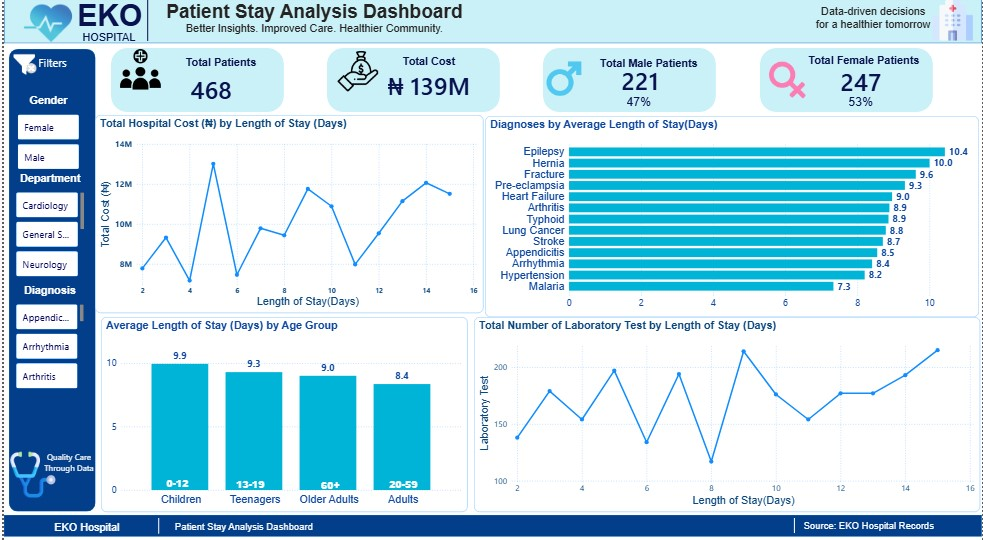

The page's visual inventory and layout, read from the dashboard file:
{"tool":"powerbi","page":{"name":"Page 1","canvas":[1920,1080],"ordinal":0},"visuals":[{"type":"shape","box":[1483.7,102.3,339.5,125.6],"z":0},{"type":"shape","box":[1058.9,102.3,339.5,125.6],"z":1000},{"type":"shape","box":[634.1,102.3,339.5,125.6],"z":2000},{"type":"shape","box":[0,4,1920,88.9],"z":3000},{"type":"shape","box":[0,1020,1920,42.2],"z":4000},{"type":"textbox","box":[119.3,63.9,172.3,48.9],"z":5000},{"type":"textbox","box":[138.6,0,174.7,77.1],"z":6000},{"type":"textbox","box":[269.9,3.6,680.7,89.2],"z":7000},{"type":"shape","box":[245.6,8.5,73.4,80.6],"z":8000},{"type":"textbox","box":[1578.3,14.5,255.6,78.8],"z":9000},{"type":"shape","box":[9.4,103.1,169.8,908.3],"z":10000},{"type":"shape","box":[209.3,102.3,339.5,125.6],"z":11000},{"type":"cardVisual","title":"Total Cost","fields":{"Data":["Measure.Total Cost"]},"box":[747.4,129.6,177.3,86.6],"z":12000},{"type":"cardVisual","title":"Total Patients","fields":{"Data":["Measure.Total Patient"]},"box":[360.7,138.2,129.9,86.6],"z":13000},{"type":"cardVisual","title":"Total Male Patients","fields":{"Data":["Measure.Male"]},"box":[1207.4,131.8,97.2,64.8],"z":14000},{"type":"cardVisual","title":"Total Female Patients","fields":{"Data":["Measure.Female"]},"box":[1637.5,135.6,96.4,62.6],"z":15000},{"type":"textbox","box":[719.3,112.3,231.5,47.8],"z":16000},{"type":"textbox","box":[347.8,114.5,157.1,47.6],"z":17000},{"type":"image","box":[0,0,172.6,106.8],"z":18000},{"type":"image","box":[1810.1,8.5,104.8,79.8],"z":19000},{"type":"image","box":[1488.4,107,120.5,120.5],"z":20000},{"type":"textbox","box":[1572.1,110.6,231.5,47.8],"z":21000},{"type":"textbox","box":[1151.3,116.6,231.1,47.5],"z":22000},{"type":"image","box":[1058.7,115.4,81.7,93.3],"z":23000},{"type":"cardVisual","title":"Total Female Patients","fields":{"Data":["Measure.%Female"]},"box":[1652.9,188.5,63.6,38.1],"z":24000},{"type":"cardVisual","title":"Total Female Patients","fields":{"Data":["Measure.%male"]},"box":[1217.3,189.4,77.2,37.9],"z":25000},{"type":"textbox","box":[2104.4,186.9,203.9,31.1],"z":26000},{"type":"image","box":[609.1,108,172.8,79.9],"z":27000},{"type":"image","box":[218.2,103.7,99.4,79.9],"z":28000},{"type":"clusteredBarChart","title":"Diagnoses by Average Length of Stay(Days)","fields":{"Category":["Clean sheet (2).Diagnosis"],"Y":["Avg(Clean sheet (2).Length_of_Stay)"]},"box":[945,235,970,395],"z":29000},{"type":"lineChart","title":"Total Hospital Cost (₦) by Length of Stay (Days)","fields":{"Category":["Clean sheet (2).Length_of_Stay"],"Y":["Sum(Clean sheet (2).Total_Cost)"]},"box":[179,233.3,763,388.9],"z":30000},{"type":"lineChart","title":"Total Number of Laboratory Test by Length of Stay  (Days)","fields":{"Category":["Clean sheet (2).Length_of_Stay"],"Y":["Sum(Clean sheet (2).Lab_Tests_Conducted)"]},"box":[921.9,630.1,993.8,382.7],"z":31000},{"type":"image","box":[17.6,112.5,47.3,44.6],"z":32000},{"type":"image","box":[12.2,875.6,90,128.9],"z":33000},{"type":"textbox","box":[34.5,112.6,119.5,71],"z":34000},{"type":"advancedSlicerVisual","fields":{"Values":["Clean sheet (2).Gender"]},"box":[21.6,192.4,131.6,153.2],"z":35000},{"type":"textbox","box":[56.8,888.9,141.4,70],"z":36000},{"type":"advancedSlicerVisual","fields":{"Values":["Clean sheet (2).Department"]},"box":[17.6,345.9,145.9,211.8],"z":37000},{"type":"textbox","box":[188.6,1026.4,565.7,53.6],"z":38000},{"type":"textbox","box":[0,1026,319.3,53.4],"z":39000},{"type":"shape","box":[267.5,1025.3,73.5,31.3],"z":40000},{"type":"shape","box":[1531.3,1025.8,40.9,30.1],"z":42000},{"type":"advancedSlicerVisual","fields":{"Values":["Clean sheet (2).Diagnosis"]},"box":[17.6,565.9,144.7,211.8],"z":43000},{"type":"clusteredColumnChart","title":" Average Length of Stay (Days) by Age Group","fields":{"Category":["Clean sheet (2).Age_Group"],"Y":["Avg(Clean sheet (2).Length_of_Stay)"]},"box":[190.1,630.9,719.8,382.7],"z":44000},{"type":"textbox","box":[644.1,941.4,280.8,92.9],"z":45000},{"type":"textbox","box":[501.7,943.5,280.8,92.9],"z":46000},{"type":"textbox","box":[200.3,939.4,280.8,92.9],"z":47000},{"type":"textbox","box":[342.7,941.4,280.8,92.9],"z":48000},{"type":"textbox","box":[1531.3,1025.3,333.5,53.3],"z":49000}]}

Visuals, with their boxes in screenshot pixels (x1, y1, x2, y2), scaled from the page's 1920x1080 canvas onto the 983x540 screenshot:
shape: BBox(760, 51, 933, 114)
shape: BBox(542, 51, 716, 114)
shape: BBox(325, 51, 498, 114)
shape: BBox(0, 2, 982, 46)
shape: BBox(0, 510, 982, 531)
textbox: BBox(61, 32, 149, 56)
textbox: BBox(71, 0, 160, 39)
textbox: BBox(138, 2, 487, 46)
shape: BBox(126, 4, 163, 45)
textbox: BBox(808, 7, 939, 47)
shape: BBox(5, 52, 92, 506)
shape: BBox(107, 51, 281, 114)
"Total Cost" cardVisual: BBox(383, 65, 473, 108)
"Total Patients" cardVisual: BBox(185, 69, 251, 112)
"Total Male Patients" cardVisual: BBox(618, 66, 668, 98)
"Total Female Patients" cardVisual: BBox(838, 68, 888, 99)
textbox: BBox(368, 56, 487, 80)
textbox: BBox(178, 57, 258, 81)
image: BBox(0, 0, 88, 53)
image: BBox(927, 4, 980, 44)
image: BBox(762, 54, 824, 114)
textbox: BBox(805, 55, 923, 79)
textbox: BBox(589, 58, 708, 82)
image: BBox(542, 58, 584, 104)
"Total Female Patients" cardVisual: BBox(846, 94, 879, 113)
"Total Female Patients" cardVisual: BBox(623, 95, 663, 114)
image: BBox(312, 54, 400, 94)
image: BBox(112, 52, 163, 92)
"Diagnoses by Average Length of Stay(Days)" clusteredBarChart: BBox(484, 118, 980, 315)
"Total Hospital Cost (₦) by Length of Stay (Days)" lineChart: BBox(92, 117, 482, 311)
"Total Number of Laboratory Test by Length of Stay  (Days)" lineChart: BBox(472, 315, 981, 506)
image: BBox(9, 56, 33, 79)
image: BBox(6, 438, 52, 502)
textbox: BBox(18, 56, 79, 92)
advancedSlicerVisual - Clean sheet (2).Gender: BBox(11, 96, 78, 173)
textbox: BBox(29, 444, 101, 479)
advancedSlicerVisual - Clean sheet (2).Department: BBox(9, 173, 84, 279)
textbox: BBox(97, 513, 386, 539)
textbox: BBox(0, 513, 163, 539)
shape: BBox(137, 513, 175, 528)
shape: BBox(784, 513, 805, 528)
advancedSlicerVisual - Clean sheet (2).Diagnosis: BBox(9, 283, 83, 389)
" Average Length of Stay (Days) by Age Group" clusteredColumnChart: BBox(97, 315, 466, 507)
textbox: BBox(330, 471, 474, 517)
textbox: BBox(257, 472, 401, 518)
textbox: BBox(103, 470, 246, 516)
textbox: BBox(175, 471, 319, 517)
textbox: BBox(784, 513, 955, 539)
